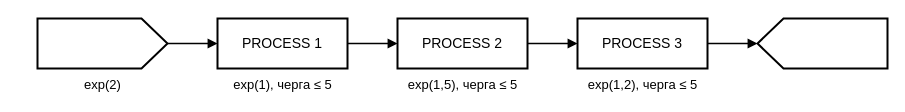
Image size: 905x112. Some labels were removed from this diagram. Each missing label, with the centre of its shape:
CREATE: the point at 102,43
DISPOSE: the point at 822,43
